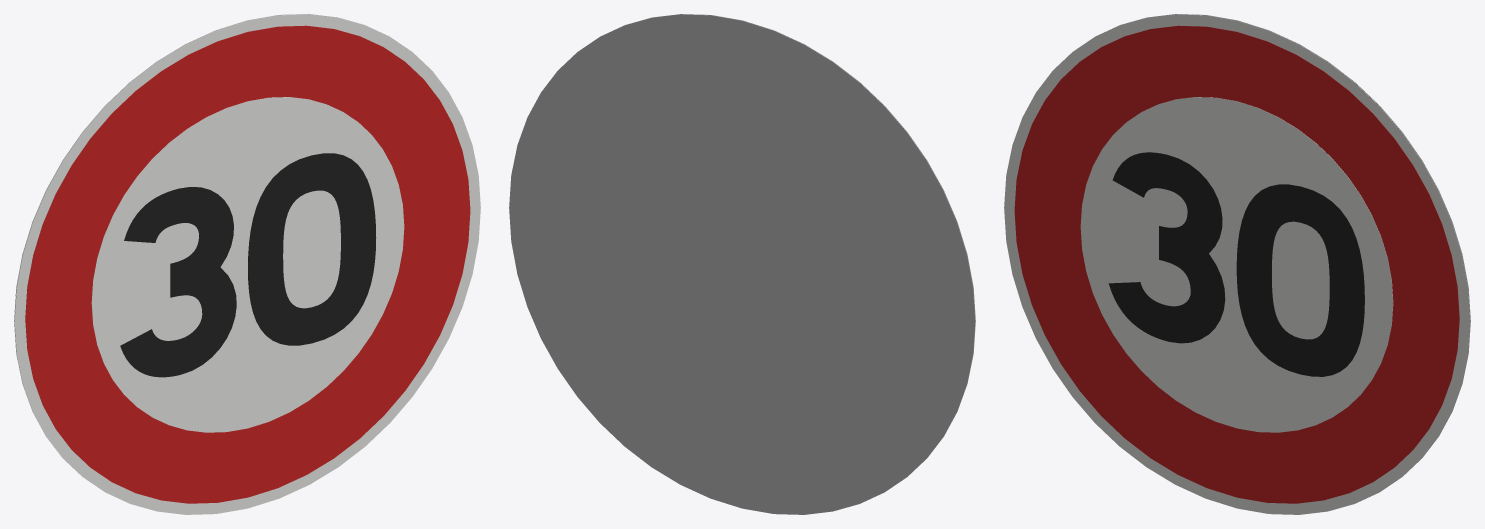
3 renders of one model, left to right at view 1: azimuth 30°, elevation 25°; view 2: azimuth 150°, elevation 25°; view 3: azimuth 330°, elevation 25°, orthographic.
Parts seen in each view (by area): view 1: B14-30_p01, B14-30_p02, B14-30_p00, B14-30_p03, B14-30_p04, B14-30_dos; view 2: B14-30_dos, B14-30_p00; view 3: B14-30_p01, B14-30_p02, B14-30_p00, B14-30_p03, B14-30_p04, B14-30_dos.
Part boxes in pixels (<box>): B14-30_p01: <box>25,25,470,503</box>; B14-30_p02: <box>91,97,404,432</box>; B14-30_p00: <box>14,14,480,514</box>; B14-30_p03: <box>248,153,376,345</box>; B14-30_p04: <box>120,187,236,377</box>; B14-30_dos: <box>14,14,385,473</box>; B14-30_dos: <box>509,14,975,514</box>; B14-30_p00: <box>604,14,975,473</box>; B14-30_p01: <box>1014,25,1459,503</box>; B14-30_p02: <box>1080,97,1393,432</box>; B14-30_p00: <box>1004,14,1470,514</box>; B14-30_p03: <box>1236,184,1364,376</box>; B14-30_p04: <box>1108,152,1225,343</box>; B14-30_dos: <box>1099,14,1470,473</box>.
Bounding box in the file's own units: 0.85 × 0.8498 × 0.0035.
